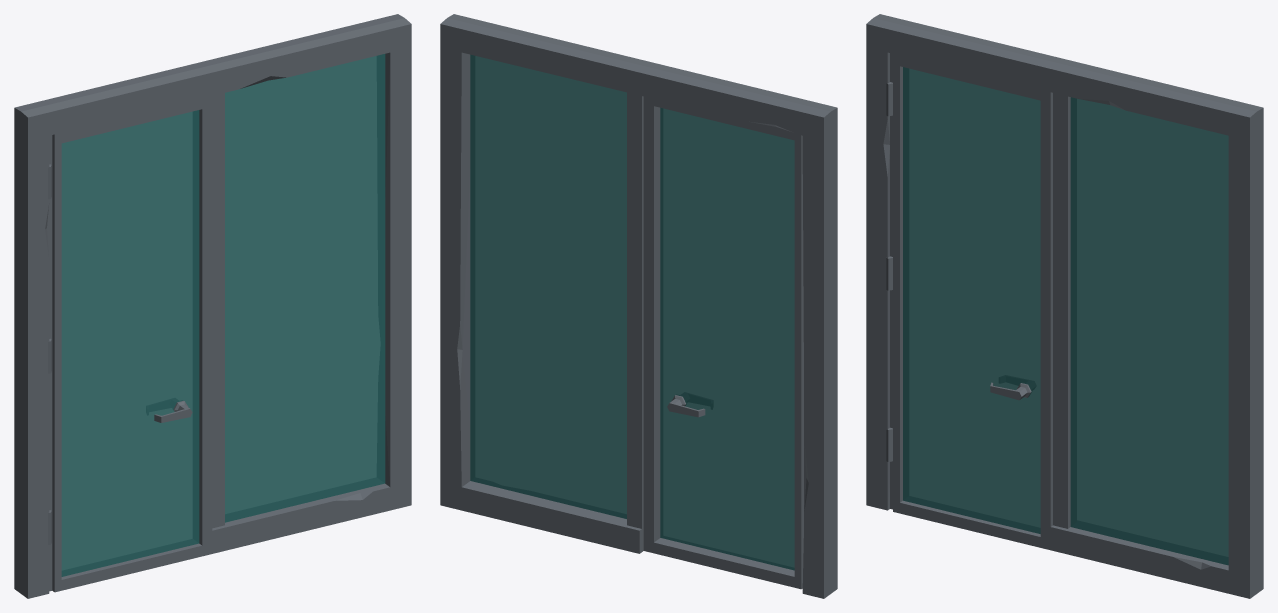
Rendered from Wall_Glass_Door.FBX.
The picture shows the model from 3 angles, left to right: view 1: azimuth 30°, elevation 25°; view 2: azimuth 150°, elevation 25°; view 3: azimuth 330°, elevation 25°; orthographic projection.
Visible parts, largest first — view 1: Glass_01, Glass_02, Wall_Glass_Door, Glass_Door; view 2: Glass_01, Glass_02, Wall_Glass_Door, Glass_Door; view 3: Glass_01, Glass_02, Wall_Glass_Door, Glass_Door.
Part boxes in pixels (bbox=[...]): Glass_01: bbox=[225, 54, 385, 522]; Glass_02: bbox=[61, 110, 199, 576]; Wall_Glass_Door: bbox=[14, 14, 411, 598]; Glass_Door: bbox=[47, 96, 212, 592]; Glass_01: bbox=[470, 54, 626, 518]; Glass_02: bbox=[660, 107, 794, 570]; Wall_Glass_Door: bbox=[440, 14, 837, 598]; Glass_Door: bbox=[643, 96, 806, 589]; Glass_01: bbox=[1070, 97, 1228, 565]; Glass_02: bbox=[903, 67, 1040, 533]; Wall_Glass_Door: bbox=[866, 14, 1263, 598]; Glass_Door: bbox=[886, 53, 1052, 550].
Bounding box in the file's own units: 250 × 300 × 20.67.
